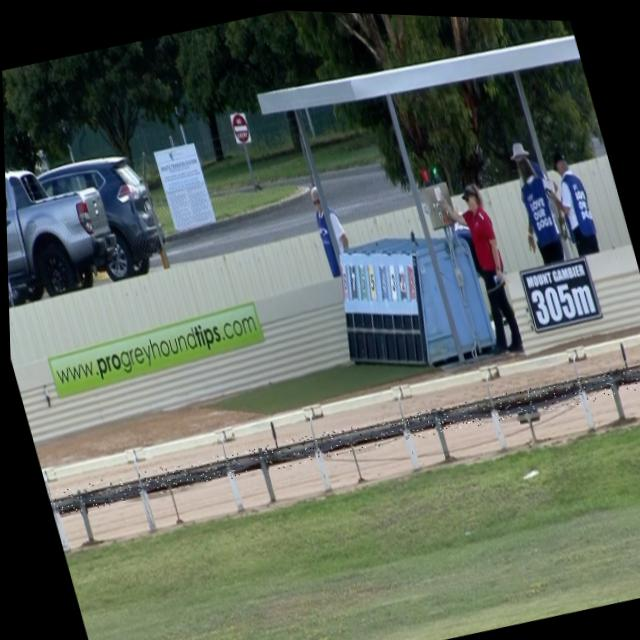rail: (48, 360, 640, 516)
